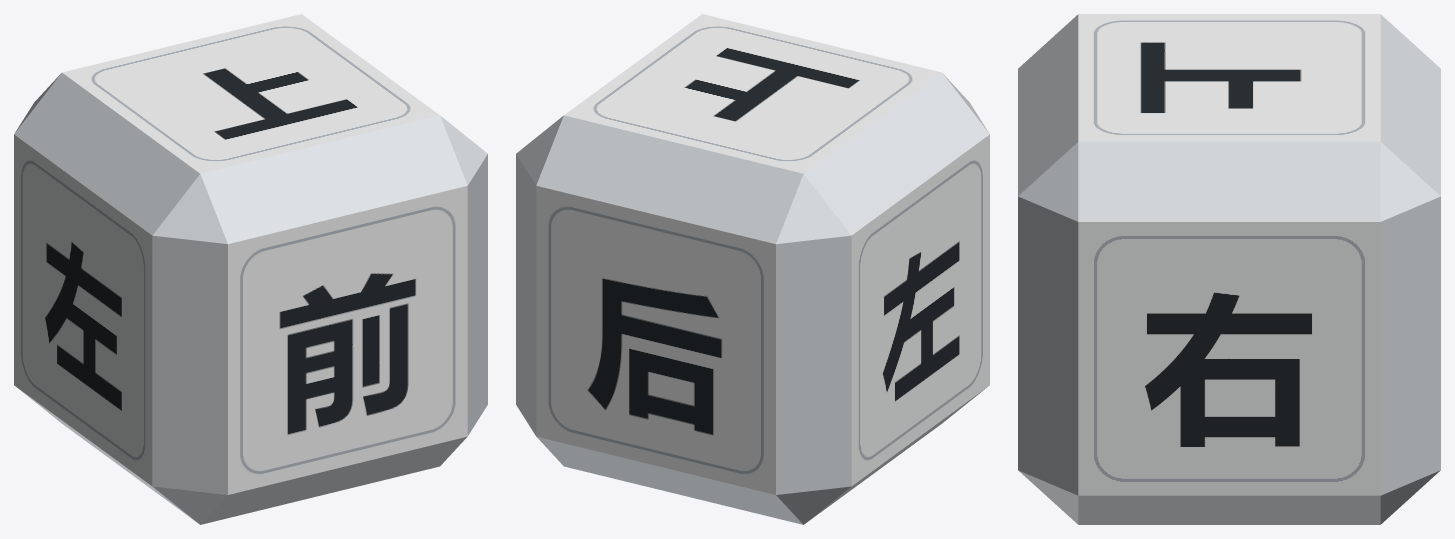
File: cubeview_1.glb
3 views of the same model, side by side, from view 1: azimuth 30°, elevation 25°; view 2: azimuth 150°, elevation 25°; view 3: azimuth 270°, elevation 25° (orthographic). The views are drawn at different scales.
Parts seen in each view (by area): view 1: Square_Face_18, Square_Face_26, Square_Face_14, Square_Face_23, Square_Face_9, Square_Face_10, Square_Face_19, Square_Face_17, Triangle_Face_2, Triangle_Face_7, Triangle_Face_1, Square_Face_25; view 2: Square_Face_20, Square_Face_26, Square_Face_14, Square_Face_24, Square_Face_16, Square_Face_10, Square_Face_21, Square_Face_22, Triangle_Face_4, Triangle_Face_8, Triangle_Face_3, Square_Face_25; view 3: Square_Face_11, Square_Face_14, Square_Face_15, Square_Face_17, Square_Face_22, Square_Face_12, Square_Face_9, Square_Face_16, Triangle_Face_1, Triangle_Face_3, Triangle_Face_5, Triangle_Face_6.
Boxes of the visible parts, x1,y1,x2,y2 form: Square_Face_18: [228, 186, 467, 494]; Square_Face_26: [14, 134, 152, 485]; Square_Face_14: [62, 14, 439, 173]; Square_Face_23: [152, 235, 227, 494]; Square_Face_9: [200, 115, 467, 243]; Square_Face_10: [14, 73, 199, 235]; Square_Face_19: [200, 436, 467, 524]; Square_Face_17: [467, 154, 487, 435]; Triangle_Face_2: [152, 174, 227, 244]; Triangle_Face_7: [153, 486, 227, 524]; Triangle_Face_1: [440, 115, 487, 185]; Square_Face_25: [18, 388, 197, 522]; Square_Face_20: [536, 186, 775, 494]; Square_Face_26: [851, 134, 989, 485]; Square_Face_14: [564, 14, 941, 173]; Square_Face_24: [776, 235, 851, 494]; Square_Face_16: [536, 115, 803, 243]; Square_Face_10: [804, 73, 989, 235]; Square_Face_21: [536, 436, 803, 524]; Square_Face_22: [516, 154, 536, 435]; Triangle_Face_4: [776, 174, 851, 244]; Triangle_Face_8: [776, 486, 850, 524]; Triangle_Face_3: [516, 115, 563, 185]; Square_Face_25: [806, 388, 985, 522]; Square_Face_11: [1078, 222, 1380, 495]; Square_Face_14: [1078, 14, 1380, 141]; Square_Face_15: [1078, 141, 1380, 221]; Square_Face_17: [1018, 196, 1078, 495]; Square_Face_22: [1380, 196, 1440, 495]; Square_Face_12: [1078, 495, 1380, 524]; Square_Face_9: [1018, 14, 1078, 195]; Square_Face_16: [1380, 14, 1440, 195]; Triangle_Face_1: [1018, 142, 1078, 221]; Triangle_Face_3: [1380, 142, 1440, 221]; Triangle_Face_5: [1018, 470, 1078, 524]; Triangle_Face_6: [1380, 470, 1440, 524].
Bounding box in the file's own units: 2.8 × 2.8 × 2.8.
Materials: 7 (6 with a texture image).
